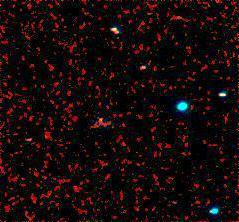star: (80, 108, 110, 138)
